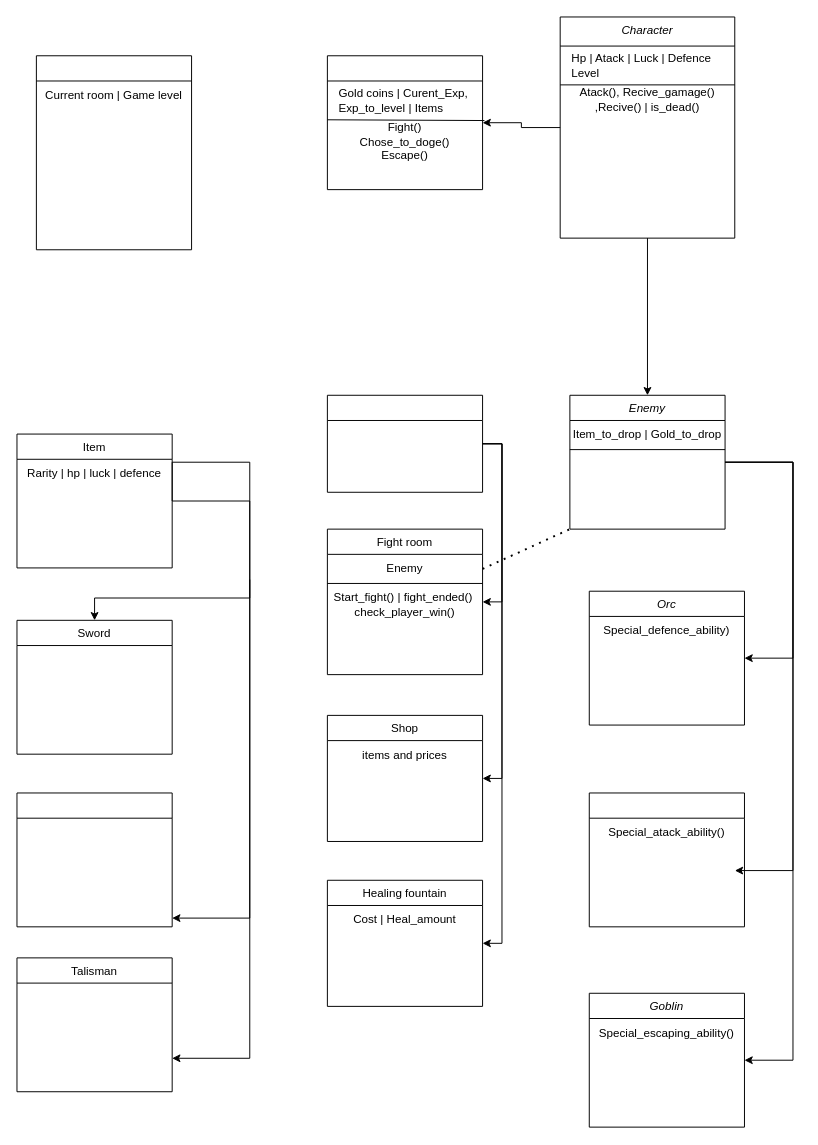
Some shapes in this 818 by 1145 pixel diagram are drawn without their labels. The box of each missing label's shape, as (x1, y1, x2, y2) in pixels:
Dungeon: (35, 55, 192, 250)
Player: (326, 55, 483, 190)
Room: (326, 394, 483, 492)
Shield: (16, 792, 172, 927)
Skeleton: (588, 792, 744, 927)
